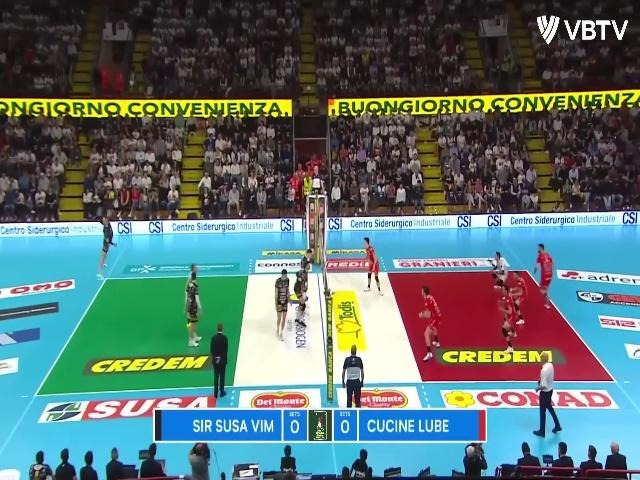volleyball court: (35, 269, 615, 396)
